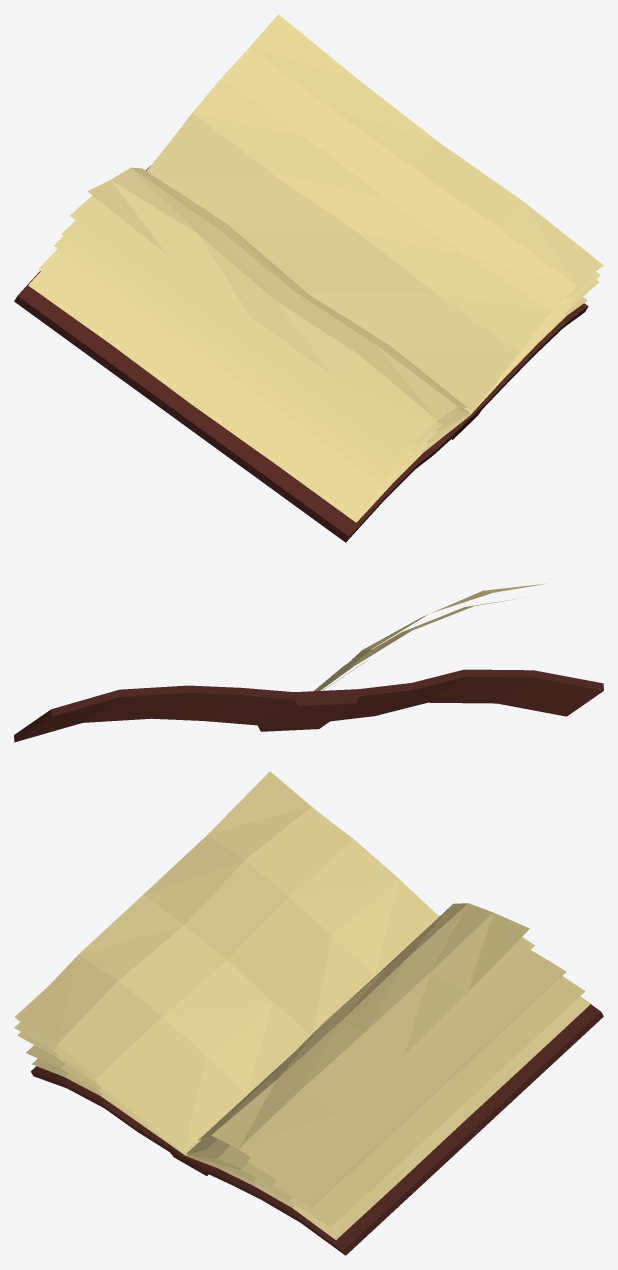
Rendered from Book.glb.
3 renders of one model, top to bottom at view 1: azimuth 30°, elevation 25°; view 2: azimuth 150°, elevation 25°; view 3: azimuth 270°, elevation 25°, orthographic. The views are drawn at different scales.
Visible parts, largest first — view 1: pg.6, pg.2, Cover, pg.5, pg.4, pg.1, pg.3; view 2: Cover, pg.6; view 3: pg.6, pg.4, pg.2, Cover, pg.1, pg.5, pg.3.
Boxes of the visible parts, x1,y1,x2,y2 form: pg.6: (87,14,603,443); pg.2: (38,249,599,508); Cover: (14,165,588,542); pg.5: (70,152,589,454); pg.4: (62,220,599,471); pg.1: (28,271,587,522); pg.3: (54,236,600,483); Cover: (14,669,603,742); pg.6: (314,583,545,691); pg.6: (17,771,529,1175); pg.4: (14,950,564,1206); pg.2: (26,976,585,1227); Cover: (31,916,603,1255); pg.1: (32,996,590,1239); pg.5: (14,829,534,1181); pg.3: (17,970,566,1208).
Bounding box in the file's own units: 21.34 × 9.55 × 20.27.
